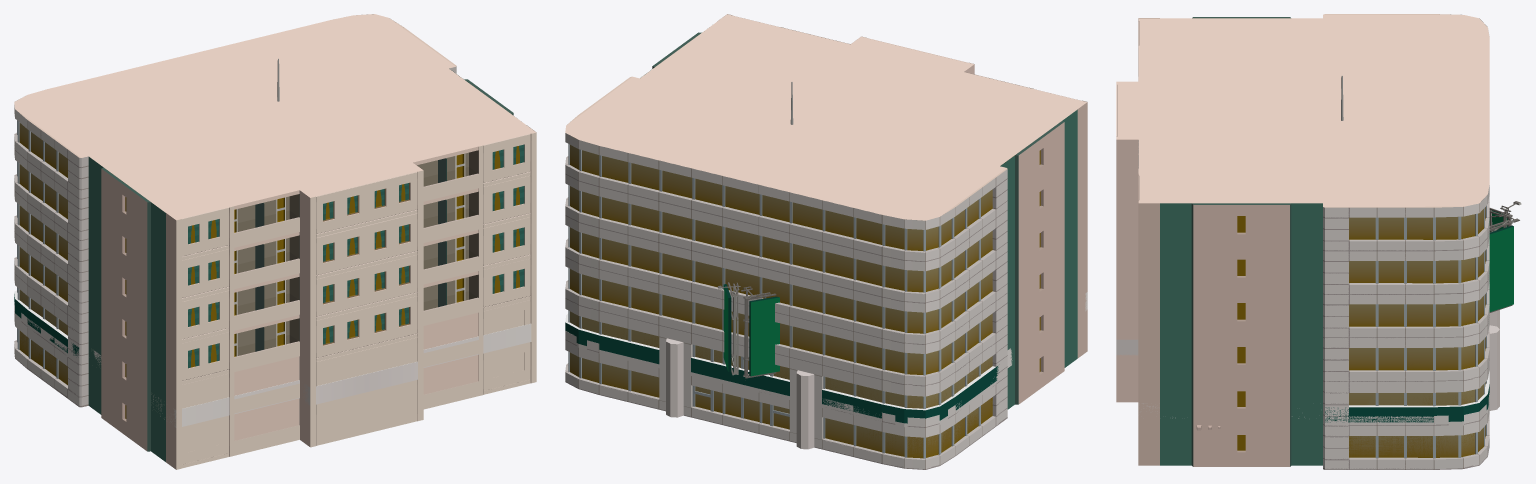
3 views of the same model, side by side, from view 1: azimuth 30°, elevation 25°; view 2: azimuth 150°, elevation 25°; view 3: azimuth 270°, elevation 25° (orthographic). The views are drawn at different scales.
Visible parts, largest first — view 1: officeFloor.012, officeFloor.015, officeFloor.005; view 2: officeFloor.012, officeFloor.015, officeFloor.005, roofStuff; view 3: officeFloor.012, officeFloor.015, officeFloor.005, roofStuff.
Part boxes in pixels (x1,y1,x2,y2): officeFloor.012: (14, 14, 536, 467); officeFloor.015: (14, 14, 536, 469); officeFloor.005: (14, 290, 531, 468); officeFloor.012: (565, 14, 1087, 467); officeFloor.015: (565, 51, 1085, 469); officeFloor.005: (565, 292, 1087, 469); roofStuff: (718, 82, 793, 378); officeFloor.012: (1116, 14, 1489, 469); officeFloor.015: (1116, 18, 1499, 469); officeFloor.005: (1116, 339, 1489, 469); roofStuff: (1341, 75, 1521, 312).
Bounding box in the file's own units: 0.7961 × 0.588 × 0.7036.
